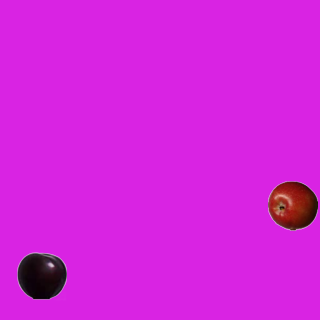Apple Braeburn: (267, 180, 317, 230)
Cherry Wax Black: (16, 250, 66, 300)
